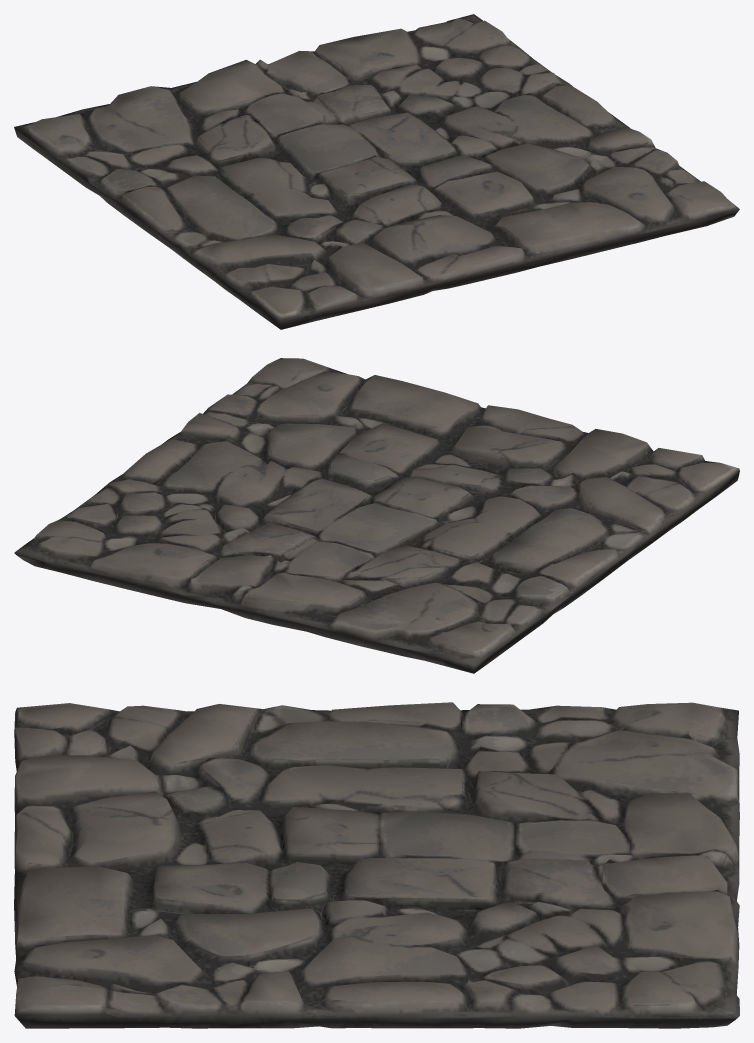
Rendered from path_tile.glb.
The picture shows the model from 3 angles, top to bottom: view 1: azimuth 30°, elevation 25°; view 2: azimuth 150°, elevation 25°; view 3: azimuth 270°, elevation 25°; orthographic projection. The views are drawn at different scales.
Parts seen in each view (by area): view 1: Mesh1.0; view 2: Mesh1.0; view 3: Mesh1.0.
Part boxes in pixels (x1,y1,x2,y2): Mesh1.0: (14,14,739,329); Mesh1.0: (14,358,739,673); Mesh1.0: (14,702,739,1028).
Bounding box in the file's own units: 1.92 × 0.0921 × 1.92.
Materials: 1 (1 with a texture image).
